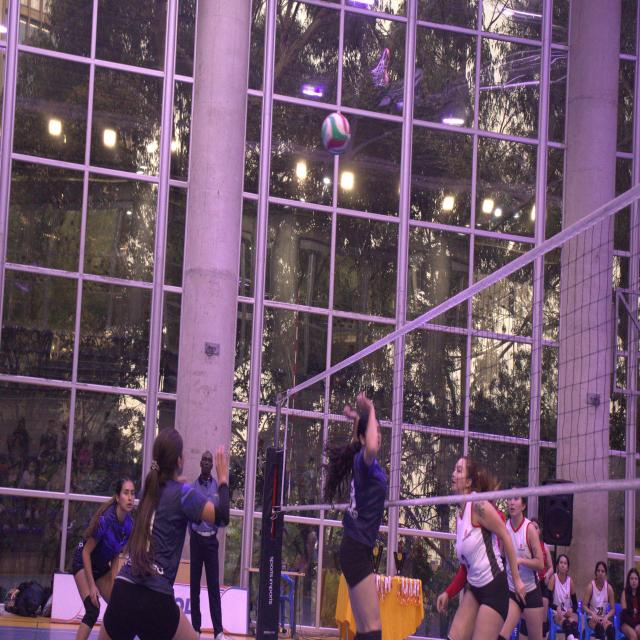volleyball: (322, 111, 352, 155)
